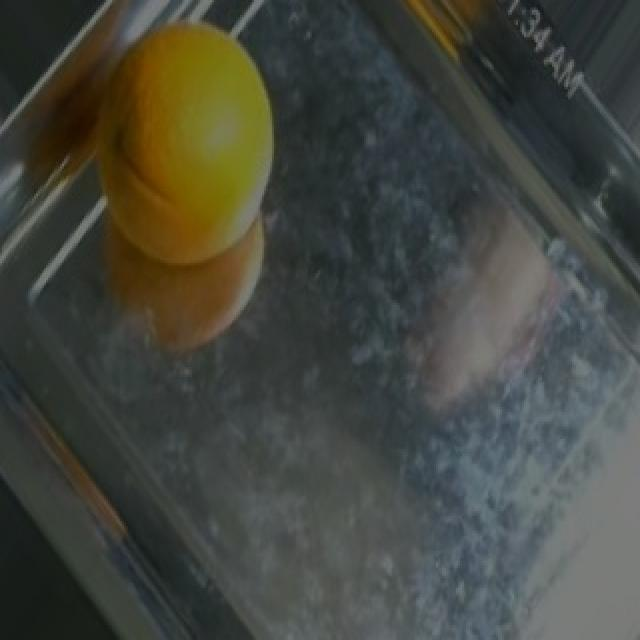Fruit: (86, 0, 300, 310)
